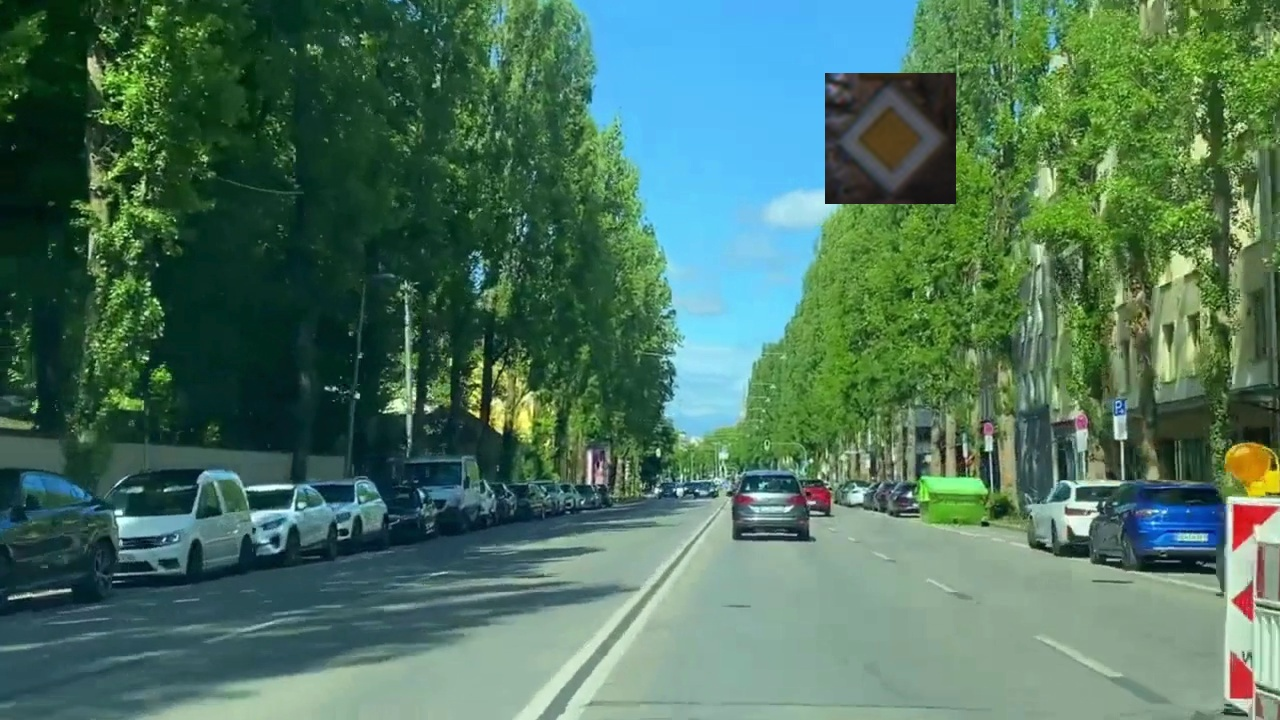Priority road: (825, 73, 956, 204)
